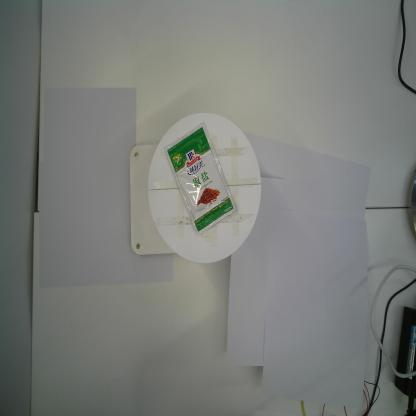Seasoner: (162, 119, 237, 238)
